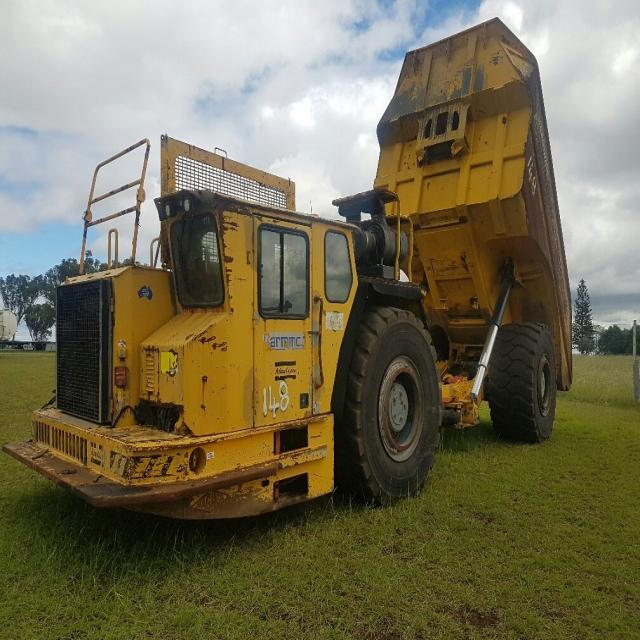dump_truck: (16, 16, 591, 535)
